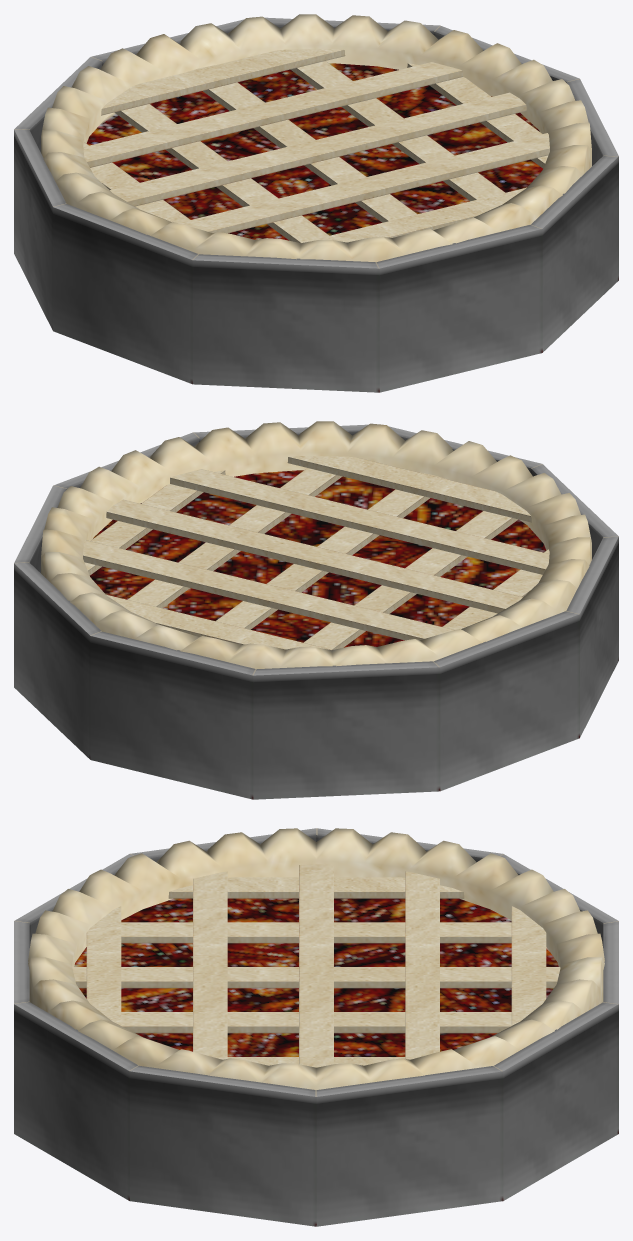
File: VFX_BakingPanWholePieLattice.fbx
The picture shows the model from 3 angles, top to bottom: view 1: azimuth 30°, elevation 25°; view 2: azimuth 150°, elevation 25°; view 3: azimuth 270°, elevation 25°; orthographic projection. The views are drawn at different scales.
Visible parts, largest first — view 1: Pie Whole Lattice Baking Pan; view 2: Pie Whole Lattice Baking Pan; view 3: Pie Whole Lattice Baking Pan.
Boxes of the visible parts, bbox=[...] form: Pie Whole Lattice Baking Pan: bbox=[14, 14, 618, 392]; Pie Whole Lattice Baking Pan: bbox=[14, 421, 618, 799]; Pie Whole Lattice Baking Pan: bbox=[14, 828, 618, 1226].
Size of the model in its own units: 0.2377 by 0.0591 by 0.2261.
